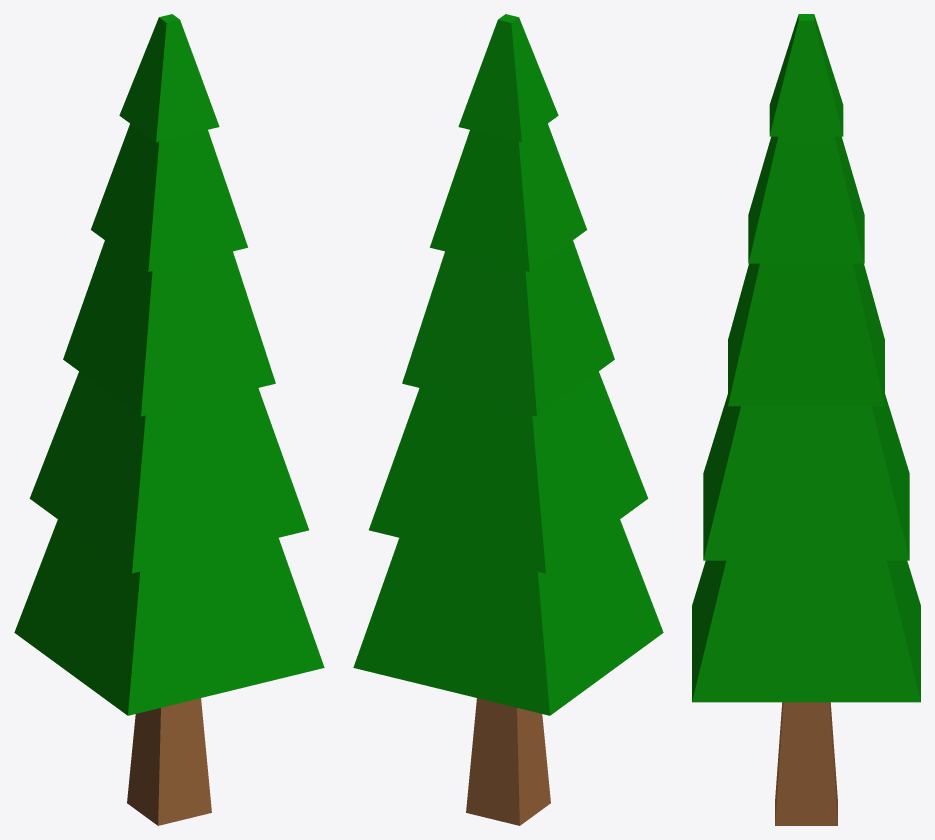
File: variant_2.glb
The picture shows the model from 3 angles, left to right: view 1: azimuth 30°, elevation 25°; view 2: azimuth 150°, elevation 25°; view 3: azimuth 270°, elevation 25°; orthographic projection.
Visible parts, largest first — view 1: Cube.003; view 2: Cube.003; view 3: Cube.003.
Boxes of the visible parts, box(x1,y1,x2,y2) form: Cube.003: box(14, 14, 324, 825); Cube.003: box(353, 14, 663, 825); Cube.003: box(692, 14, 920, 825).
Size of the model in its own units: 0.4307 by 1.65 by 0.4307.
